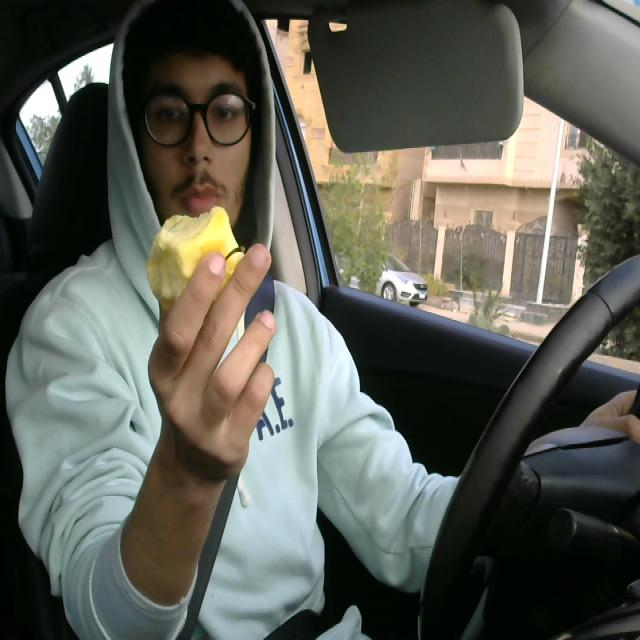eating: (145, 204, 253, 314)
